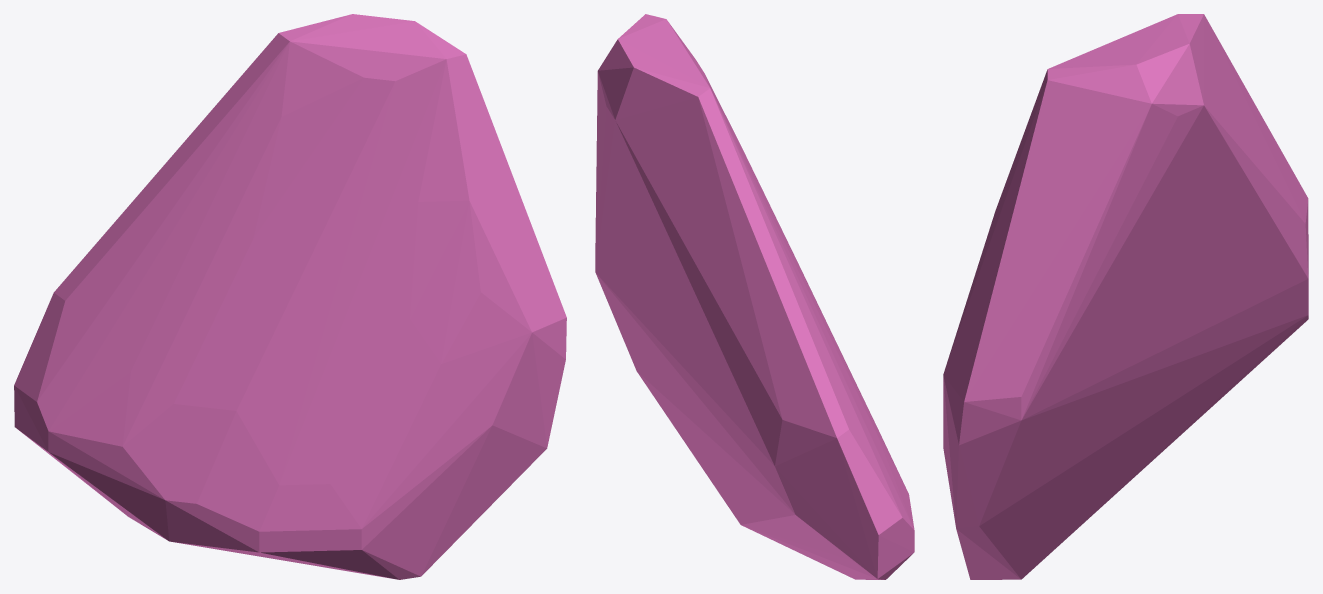
Rendered from mouth_cup006.obj.
3 views of the same model, side by side, from view 1: azimuth 30°, elevation 25°; view 2: azimuth 150°, elevation 25°; view 3: azimuth 270°, elevation 25° (orthographic). The views are drawn at different scales.
Parts seen in each view (by area): view 1: mouth_cup006_mouth_cup006.001; view 2: mouth_cup006_mouth_cup006.001; view 3: mouth_cup006_mouth_cup006.001.
Boxes of the visible parts, x1=… form: mouth_cup006_mouth_cup006.001: x1=14, y1=14, x2=566, y2=579; mouth_cup006_mouth_cup006.001: x1=595, y1=14, x2=914, y2=579; mouth_cup006_mouth_cup006.001: x1=943, y1=14, x2=1308, y2=579.
Size of the model in its own units: 0.1908 by 0.221 by 0.1323.
